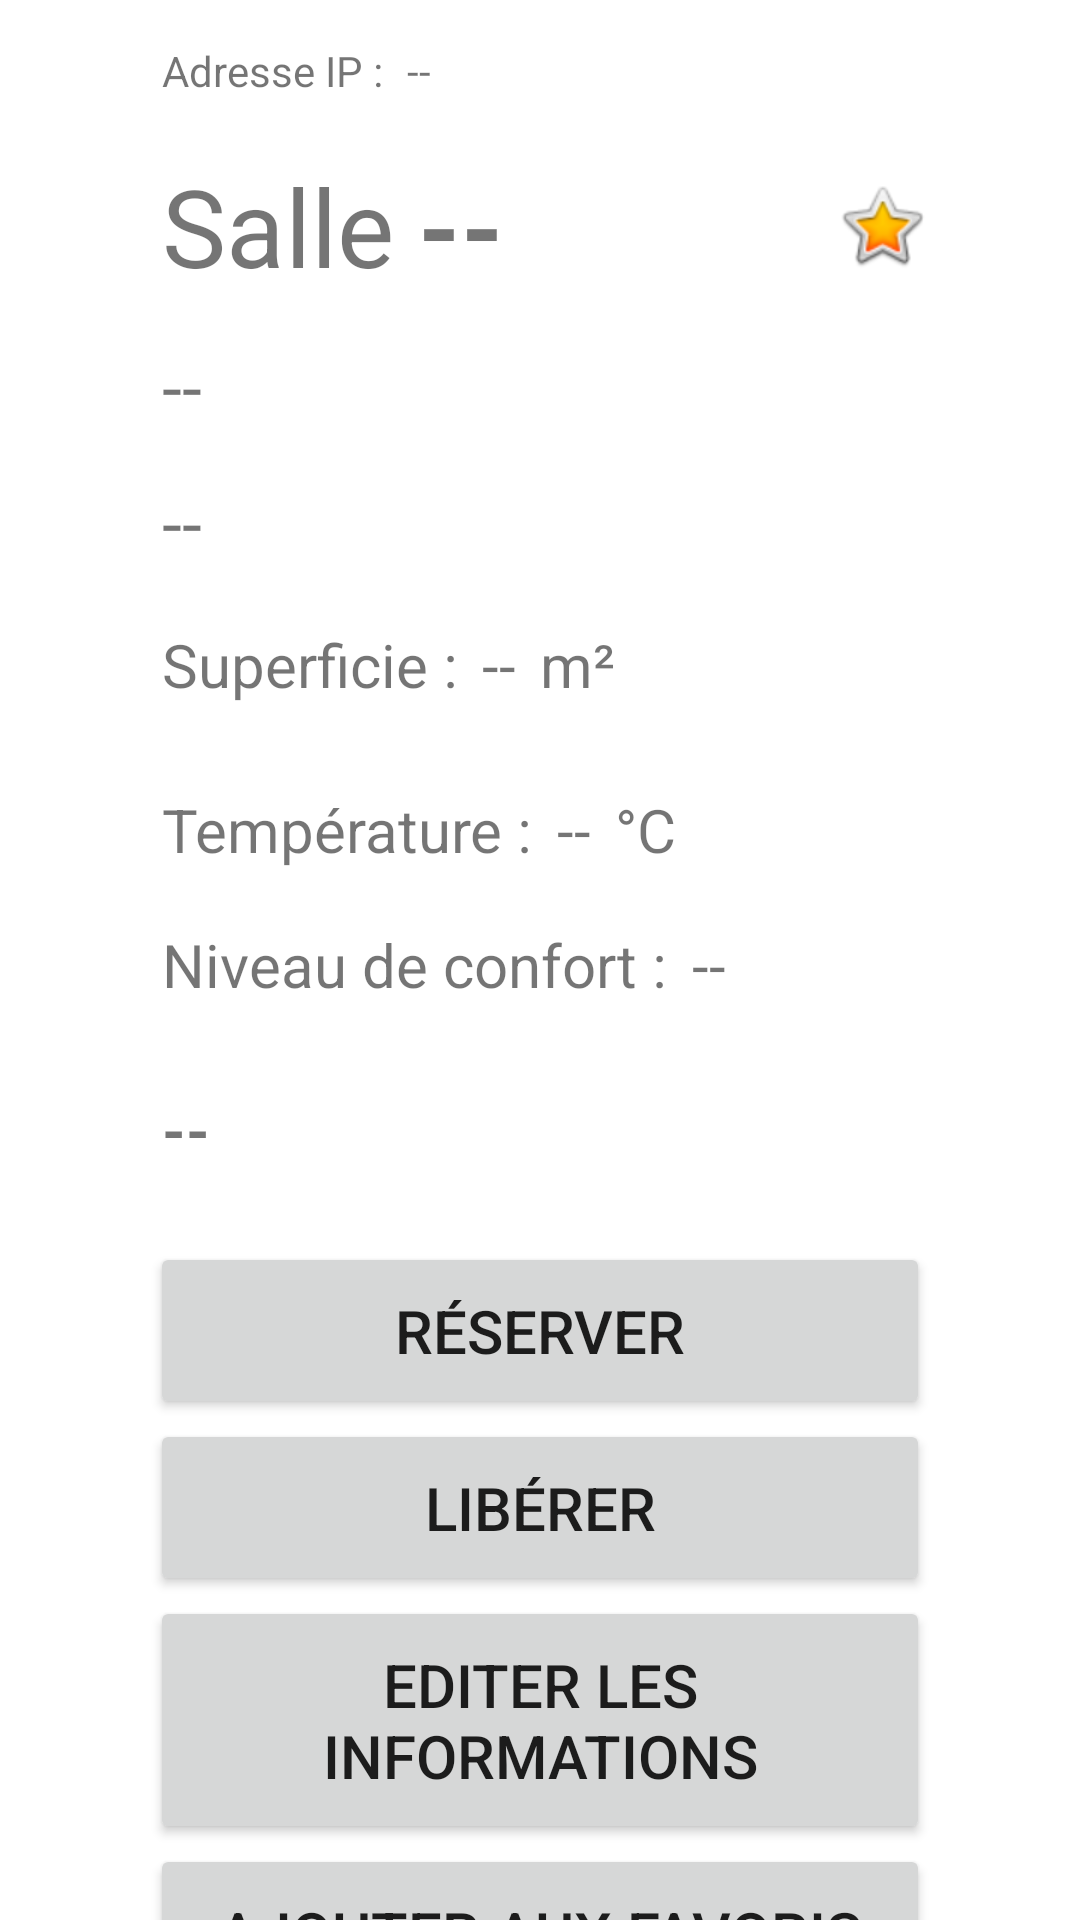

Icon click points for this 1080×1920 phone screenshot, format [x,y]:
star on: [883,226]
